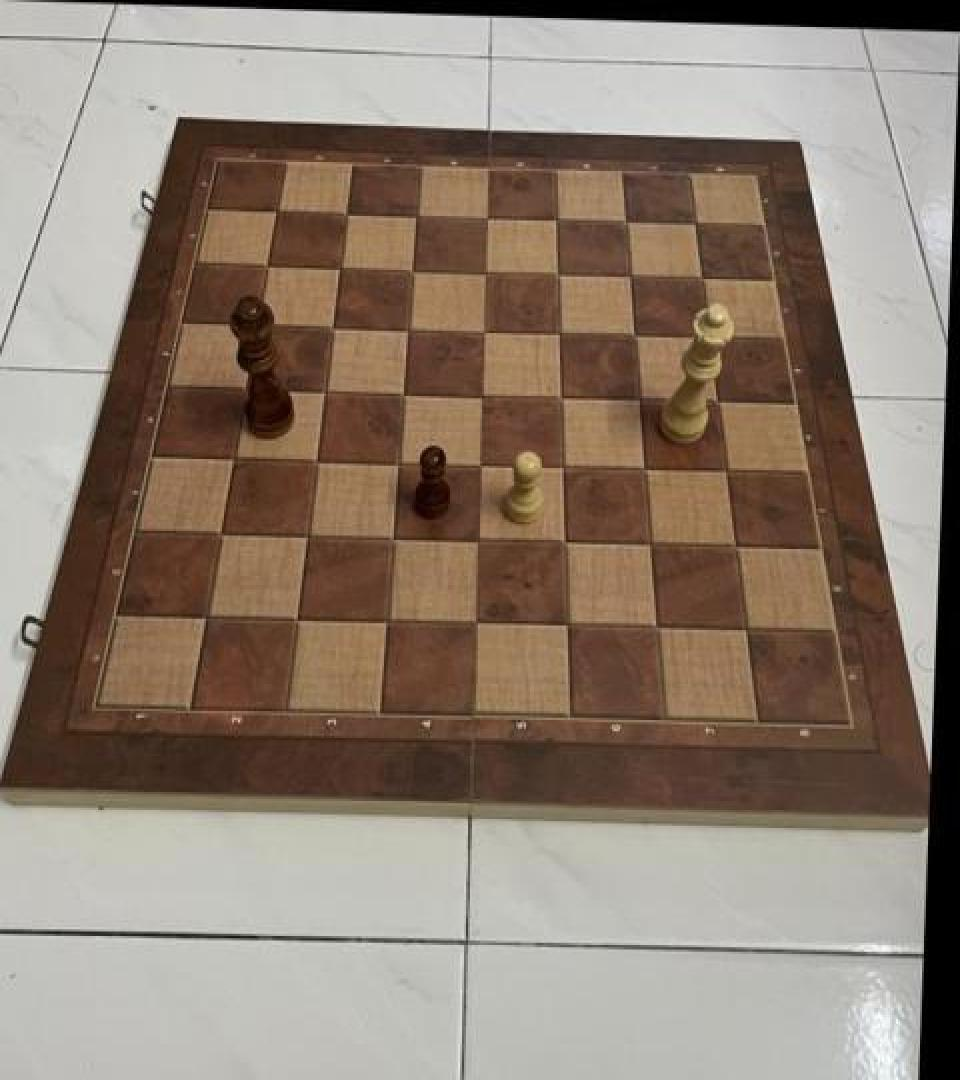xcorner: (678, 207, 710, 243), (608, 206, 640, 242), (538, 204, 570, 240), (468, 202, 500, 238), (399, 200, 431, 236), (329, 198, 361, 234), (259, 196, 291, 232), (685, 262, 717, 298), (613, 260, 645, 296), (540, 258, 572, 294), (467, 256, 499, 292), (395, 254, 427, 290), (322, 252, 354, 288), (250, 250, 282, 286), (693, 320, 725, 356), (617, 318, 649, 354), (542, 316, 574, 352), (466, 315, 498, 351), (391, 313, 423, 349), (315, 310, 347, 346), (240, 308, 272, 344), (701, 385, 733, 421), (622, 382, 654, 418), (544, 380, 576, 416), (465, 378, 497, 414), (386, 376, 418, 412), (307, 374, 339, 410), (229, 371, 261, 407), (710, 454, 742, 490), (628, 451, 660, 487), (546, 449, 578, 485), (463, 446, 495, 482), (381, 444, 413, 480), (299, 443, 331, 479), (217, 441, 249, 477), (720, 530, 752, 566), (634, 528, 666, 564), (548, 526, 580, 562), (462, 523, 494, 559), (376, 520, 408, 556), (290, 518, 322, 554), (204, 515, 236, 551), (730, 613, 762, 649), (640, 610, 672, 646), (550, 608, 582, 644), (460, 605, 492, 641), (370, 603, 402, 639), (280, 601, 312, 637), (190, 598, 222, 634)
